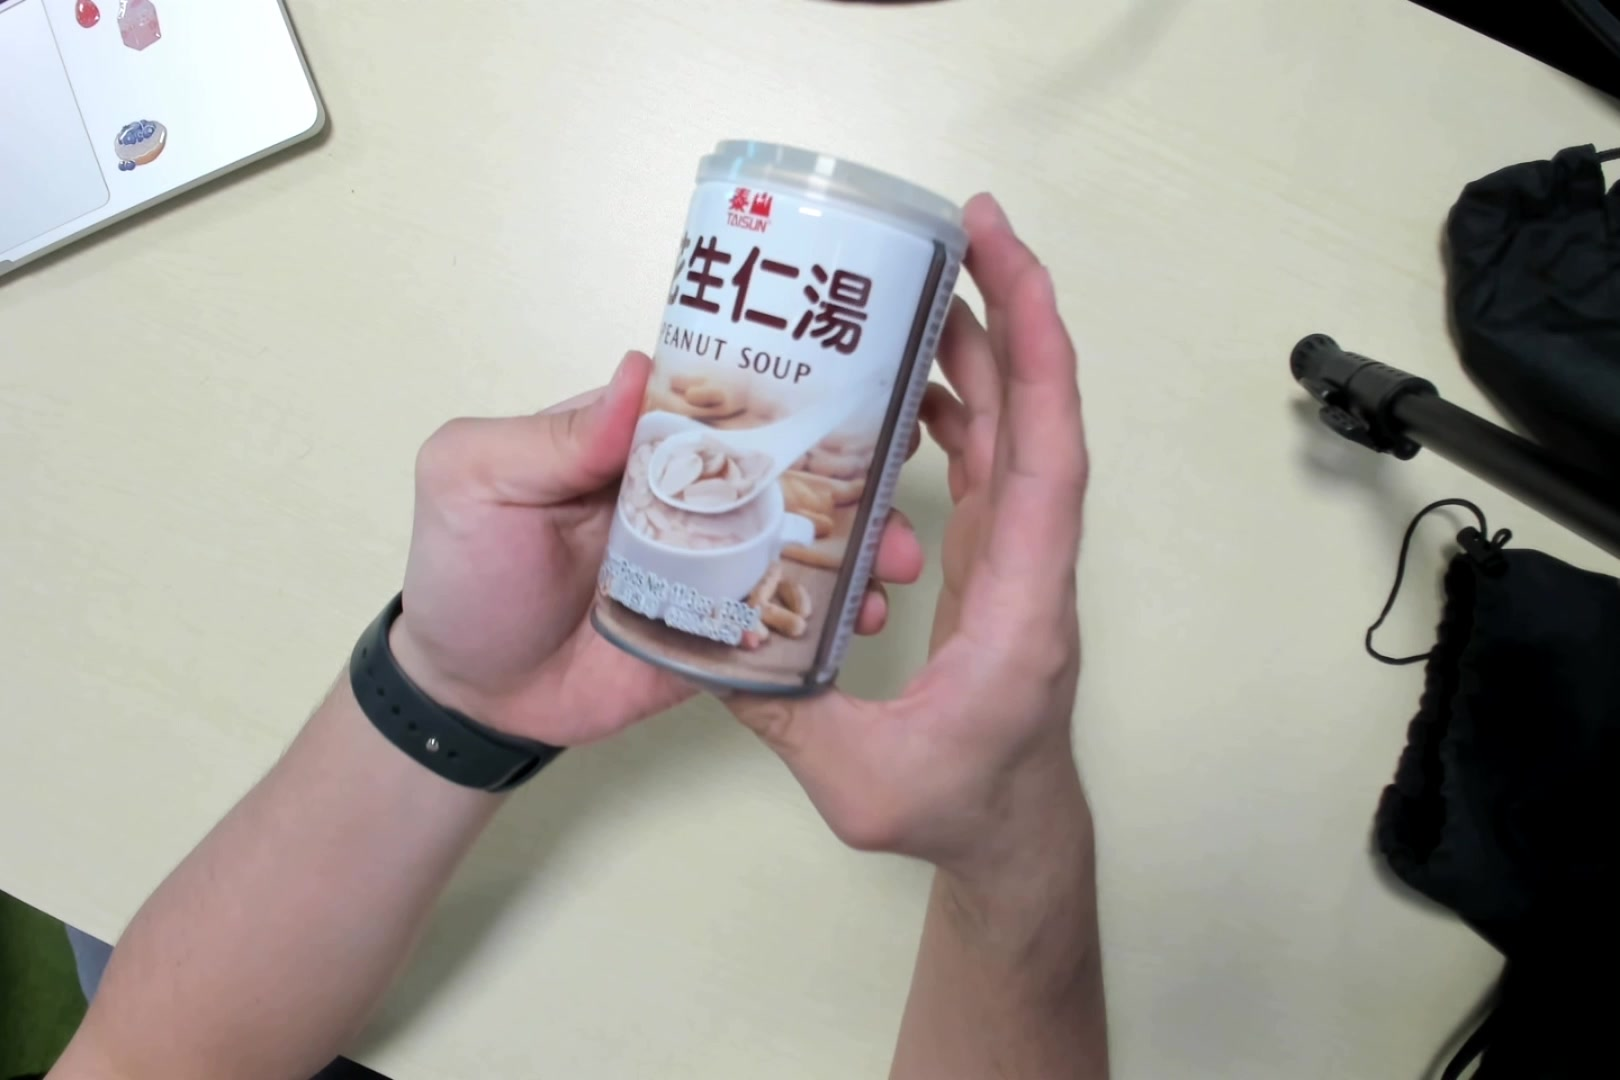InstantMeals_300-399g_NonHalal_NonHealthy: (581, 129, 973, 702)
